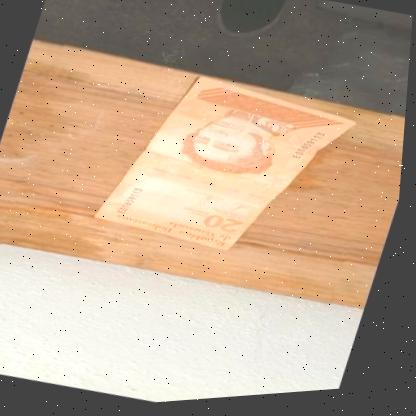twenty-front-vef: (90, 53, 367, 285)
